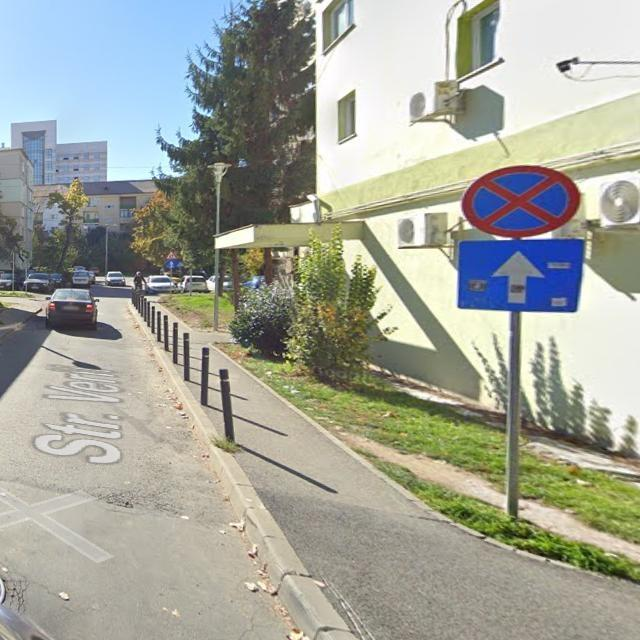forb_waiting: (462, 165, 584, 238)
